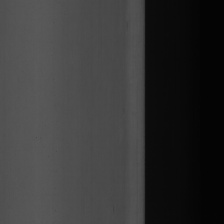inclusion: (34, 134, 38, 141)
